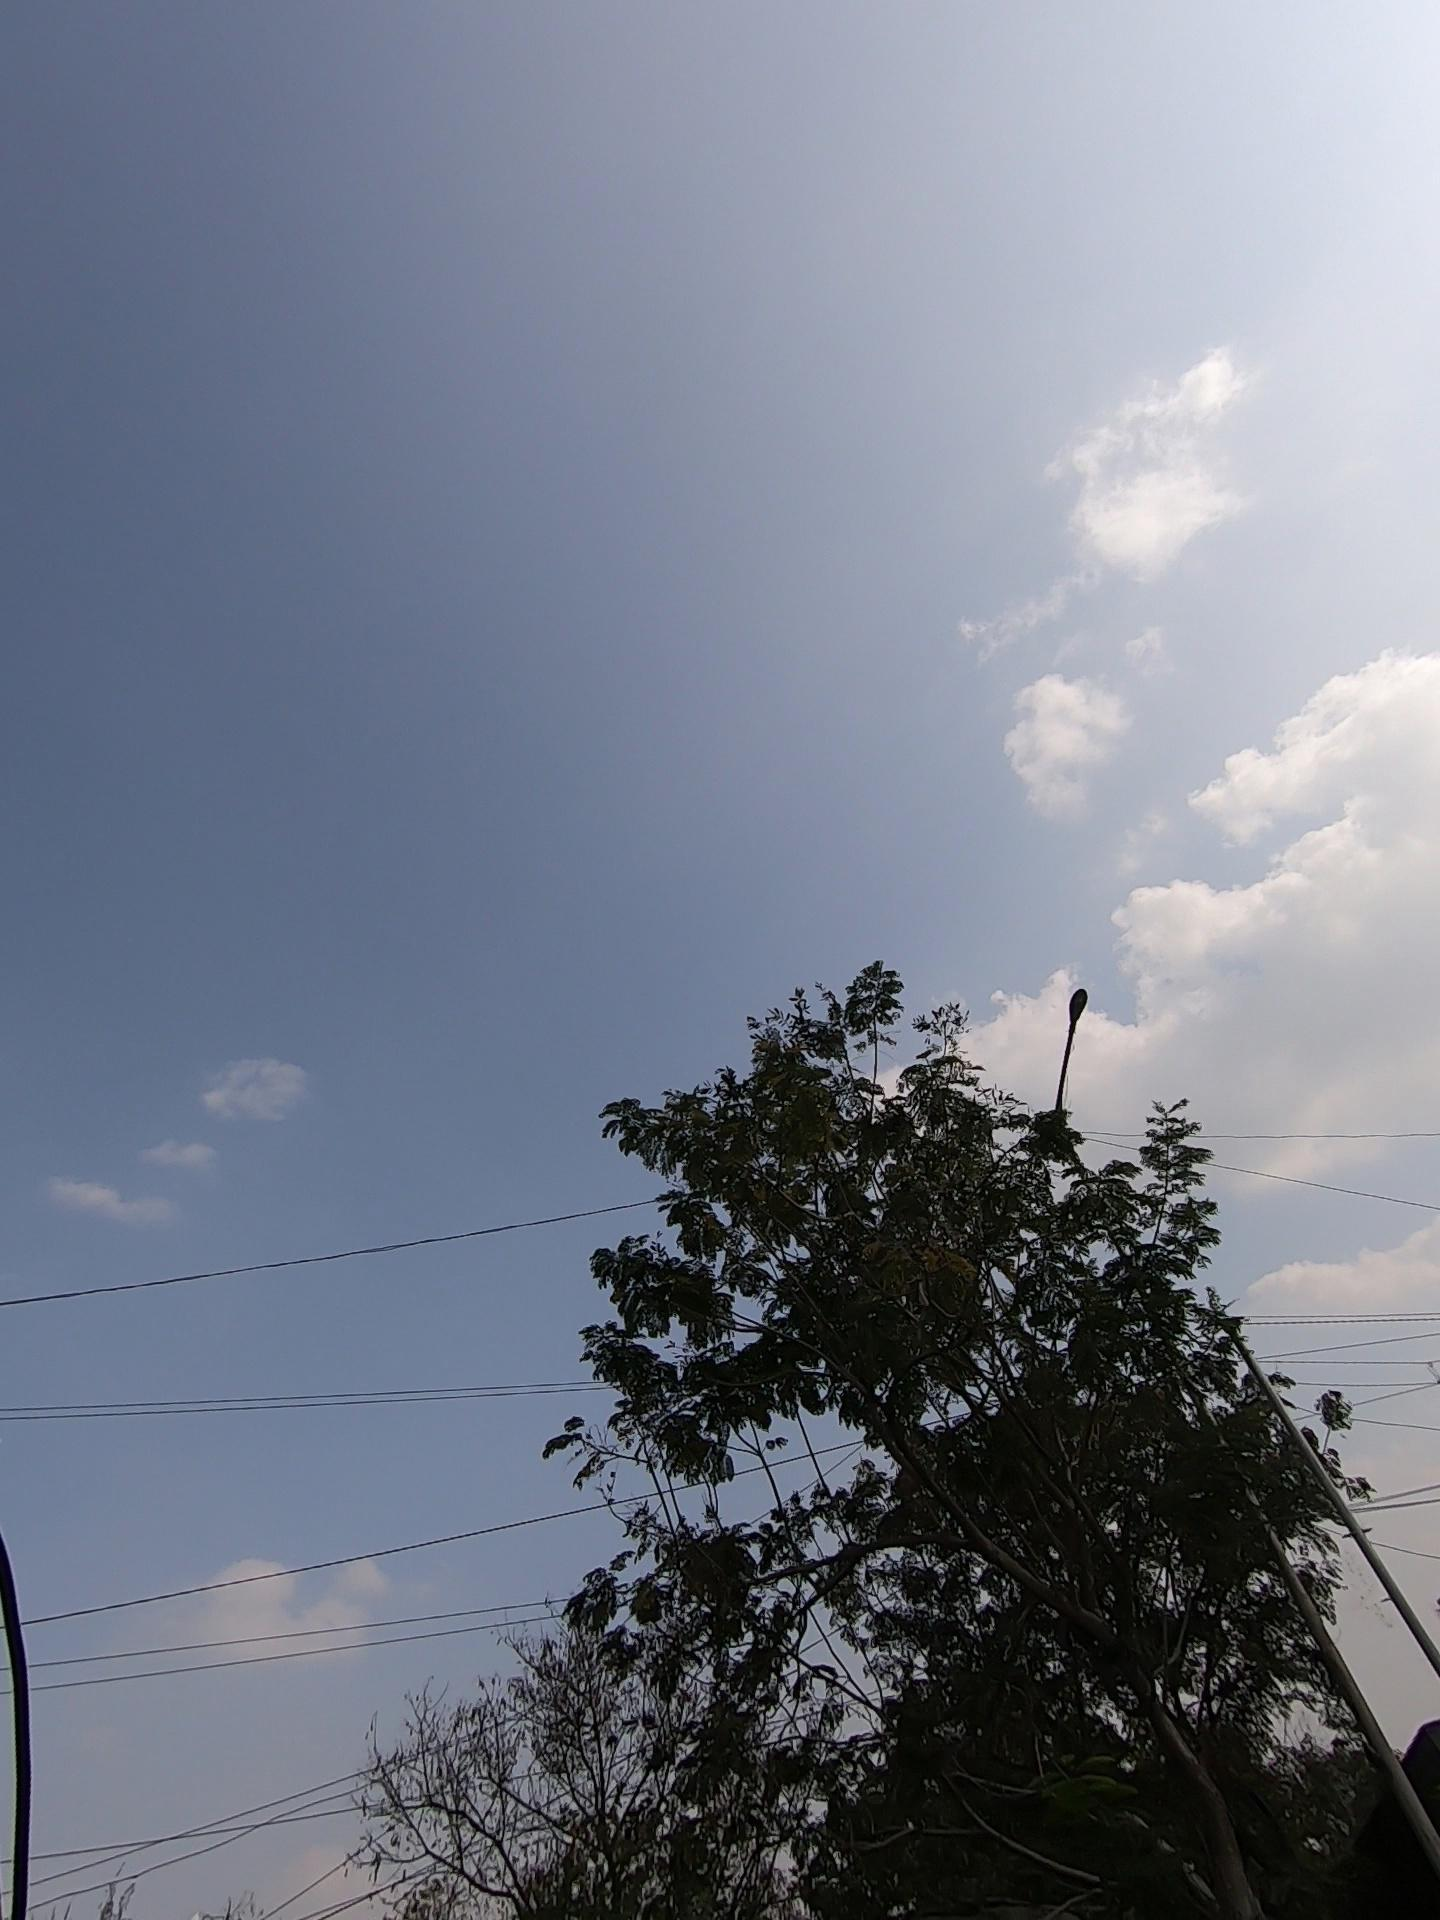off: (985, 931, 1180, 1184)
